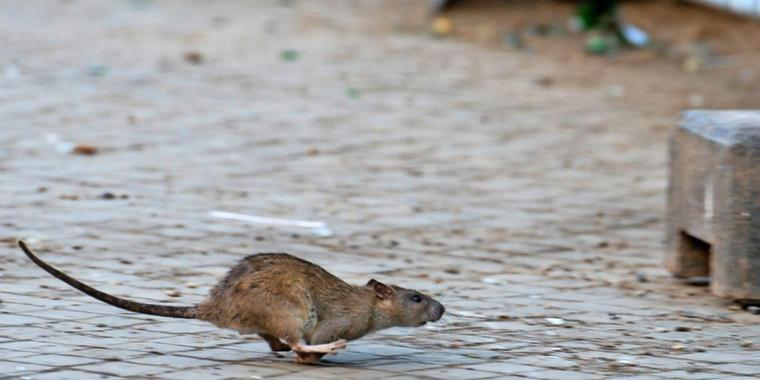rat: (10, 227, 461, 370)
